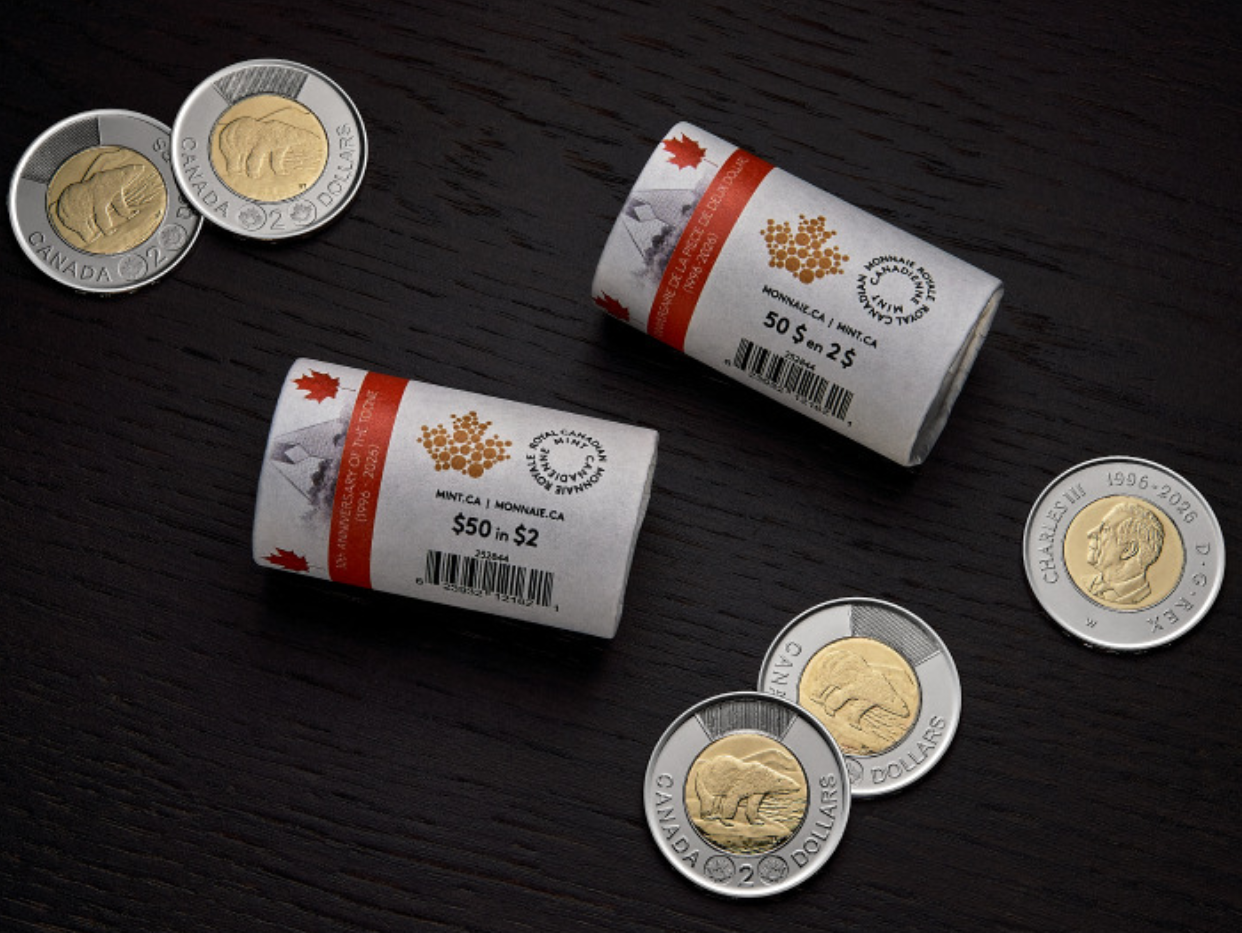coin: (644, 692, 849, 896), (759, 598, 960, 796), (1023, 456, 1224, 650), (9, 110, 200, 293), (173, 60, 367, 239)
